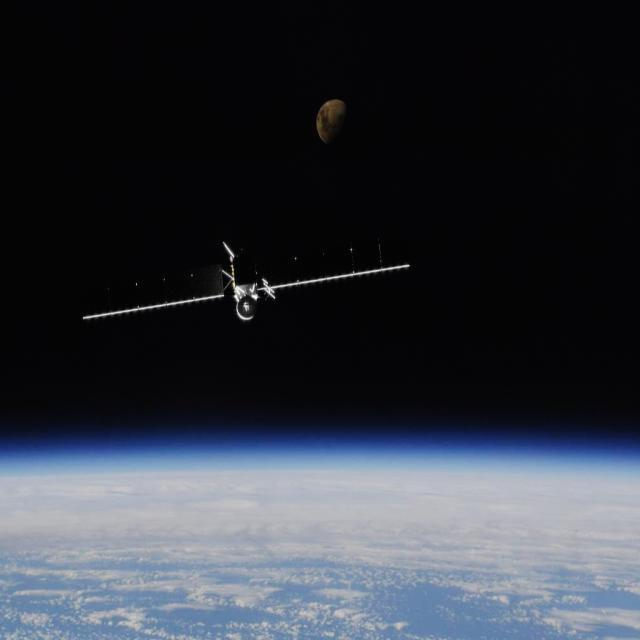satellite: (67, 216, 435, 344)
